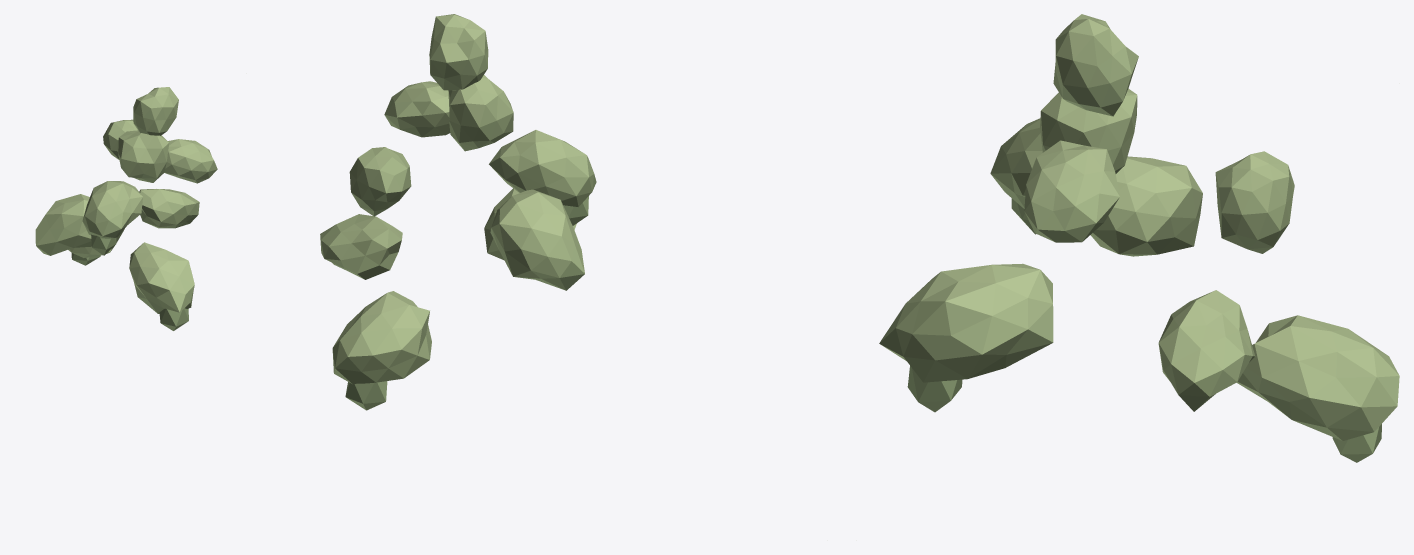
File: BirchLean2_leaf.glb
The picture shows the model from 3 angles, left to right: view 1: azimuth 30°, elevation 25°; view 2: azimuth 150°, elevation 25°; view 3: azimuth 270°, elevation 25°; orthographic projection. The views are drawn at different scales.
Parts seen in each view (by area): view 1: BirchLean2_leaf; view 2: BirchLean2_leaf; view 3: BirchLean2_leaf.
Part boxes in pixels (left/top/right/bottom): BirchLean2_leaf: left=35, top=87, right=217, bottom=330; BirchLean2_leaf: left=320, top=14, right=596, bottom=410; BirchLean2_leaf: left=879, top=14, right=1399, bottom=462.
Bounding box in the file's own units: 12.59 × 16.08 × 11.02.
